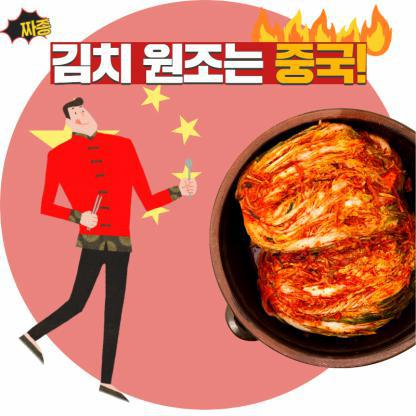kimchi: (236, 123, 415, 350), (245, 127, 402, 255), (248, 242, 416, 350)
